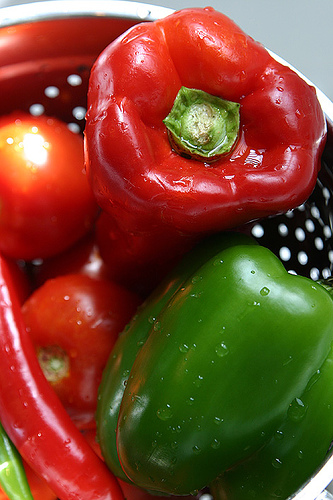capsicum: (92, 237, 331, 497), (67, 3, 327, 236)
